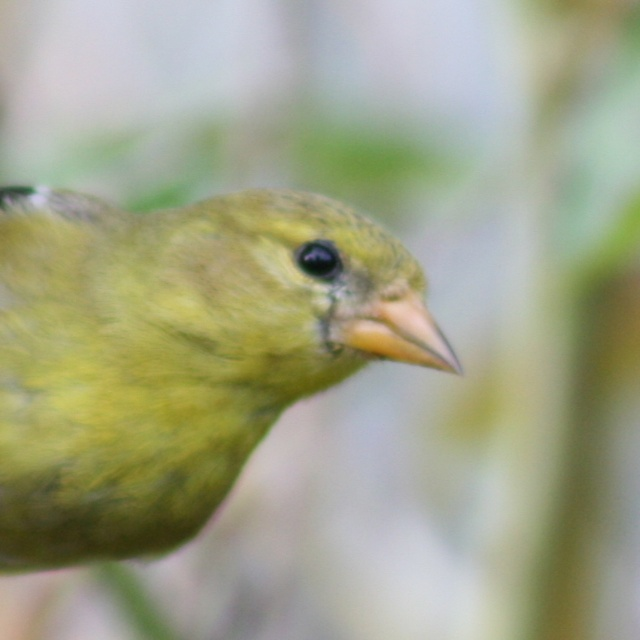Canary: (0, 178, 469, 572)
